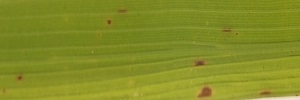RiceBrownSpot: (192, 82, 217, 100), (11, 71, 29, 85), (193, 59, 209, 69)
